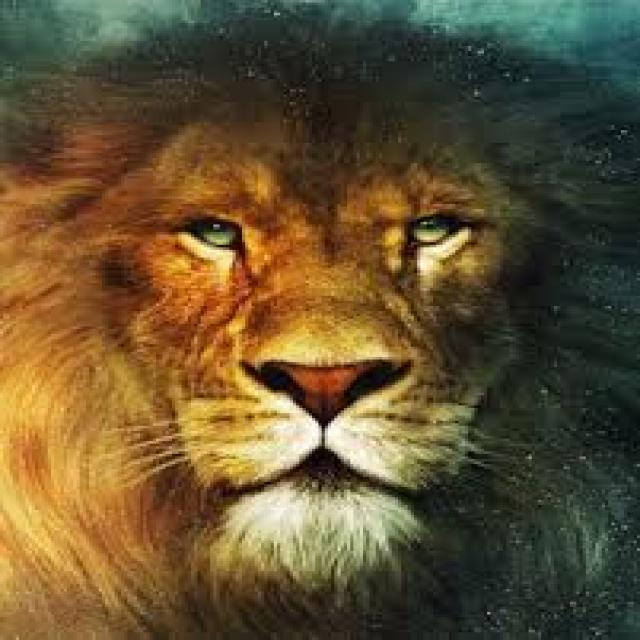Lion: (36, 12, 629, 618)
